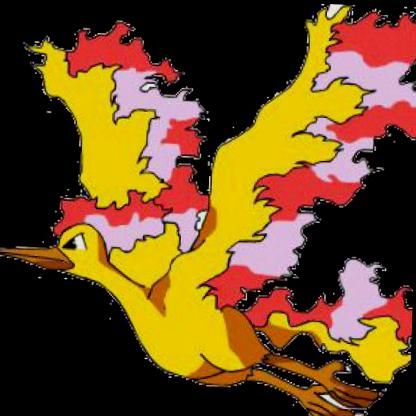Lavados: (0, 7, 415, 415)
